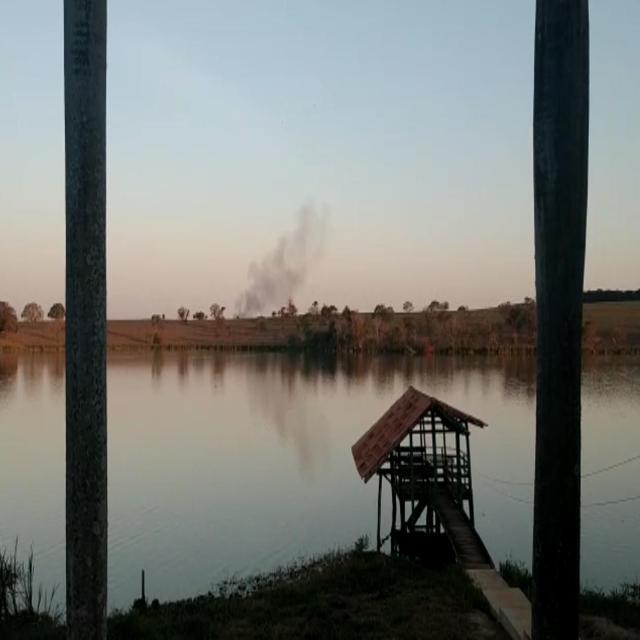Smoke: (224, 208, 349, 318)
